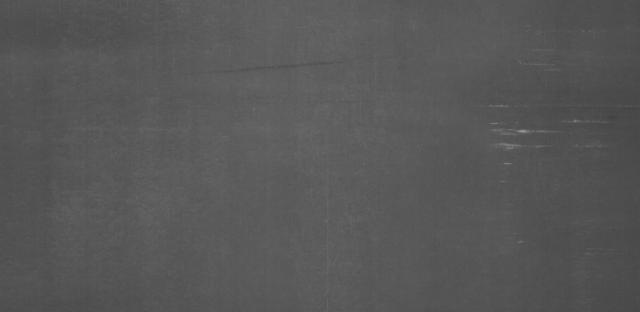waist_folding: (454, 42, 612, 258)
